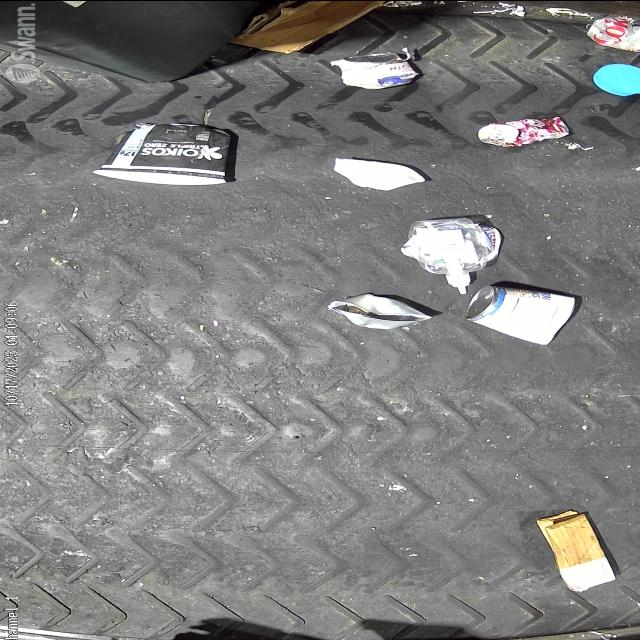can: (463, 283, 577, 346), (327, 293, 432, 329), (478, 115, 570, 146), (338, 53, 417, 88), (583, 13, 640, 51)
